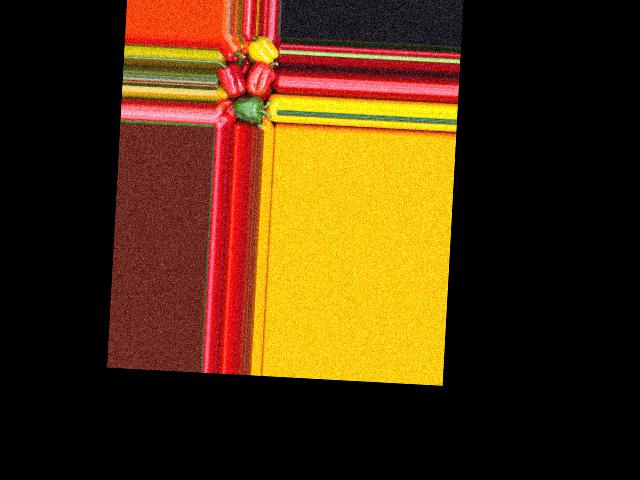bell_pepper: (245, 35, 281, 66)
